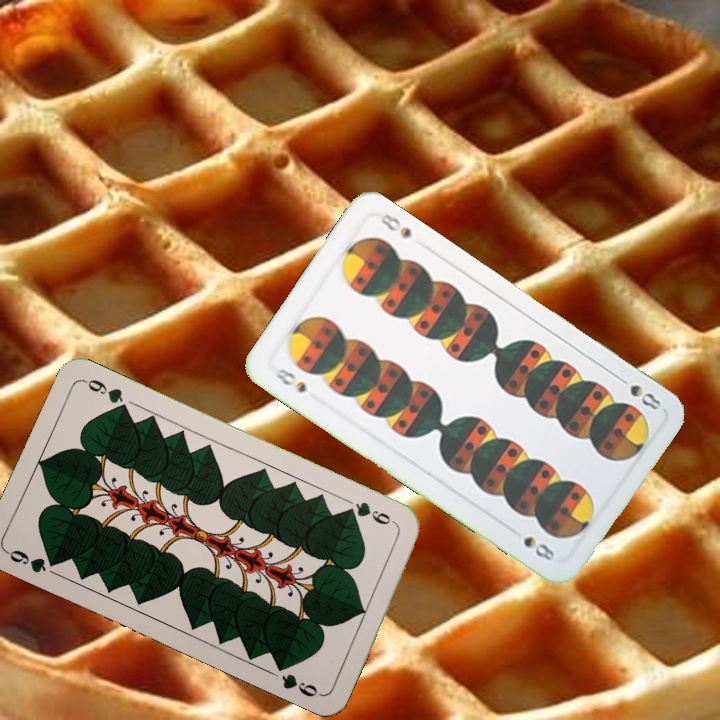G9: (341, 497, 400, 529), (3, 545, 63, 576)
S8: (612, 371, 664, 413), (271, 364, 309, 396)
